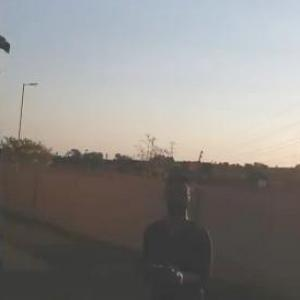follow: (129, 154, 215, 299)
